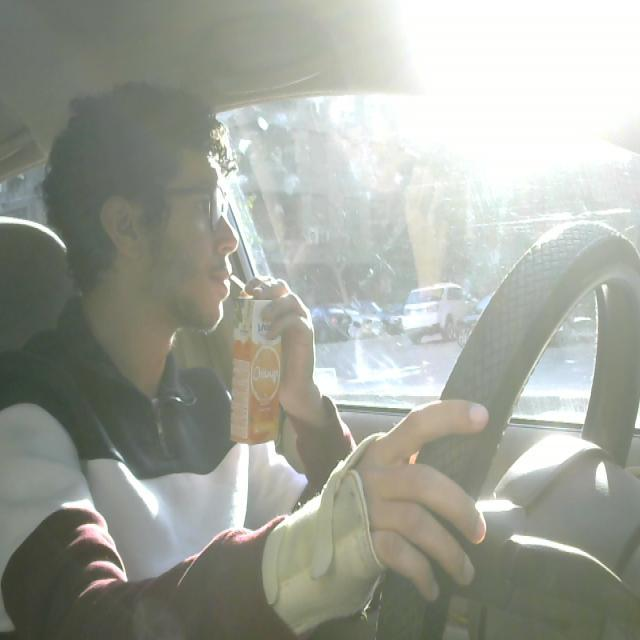Seatbelt: (226, 285, 305, 455)
